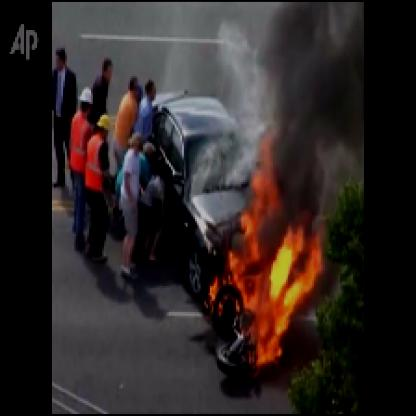Fire: (206, 109, 329, 379)
Smoke: (271, 3, 360, 174)
